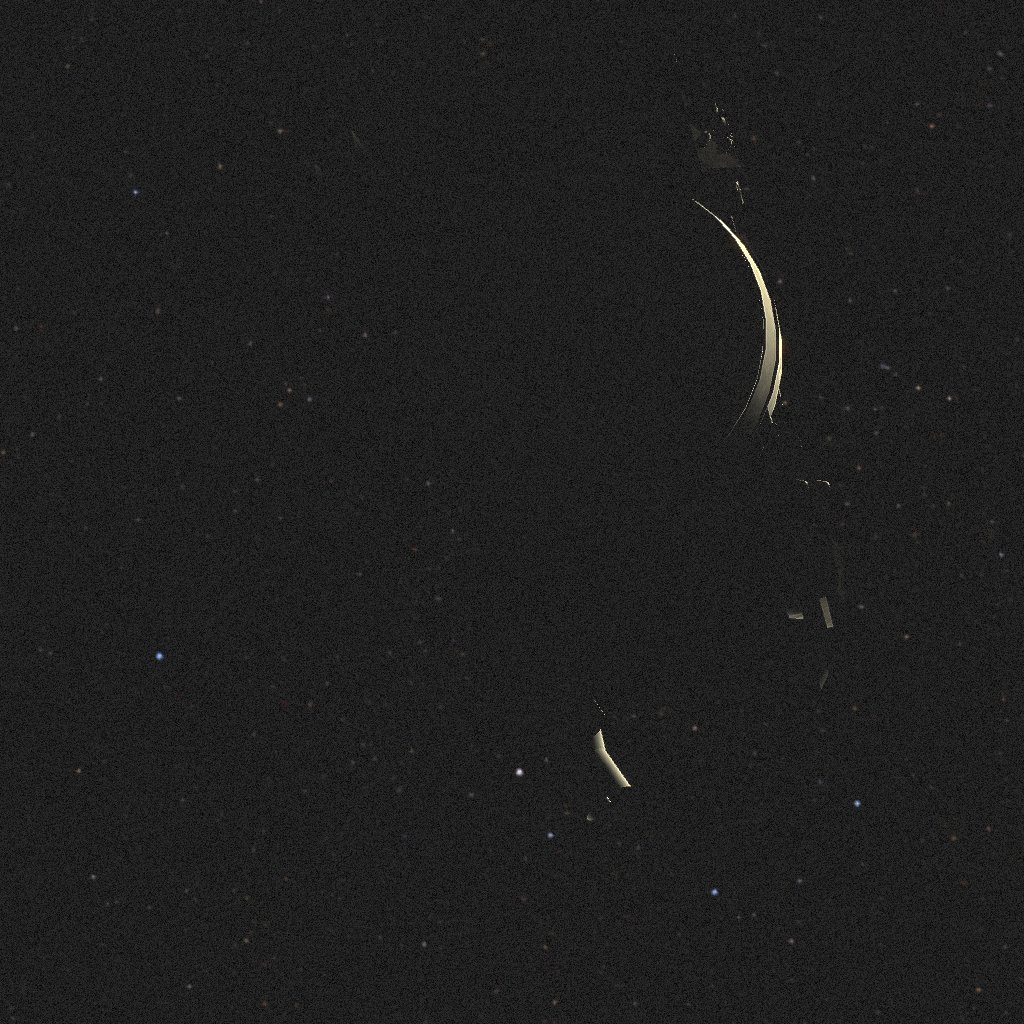proba_3_csc: (312, 26, 934, 1024)
